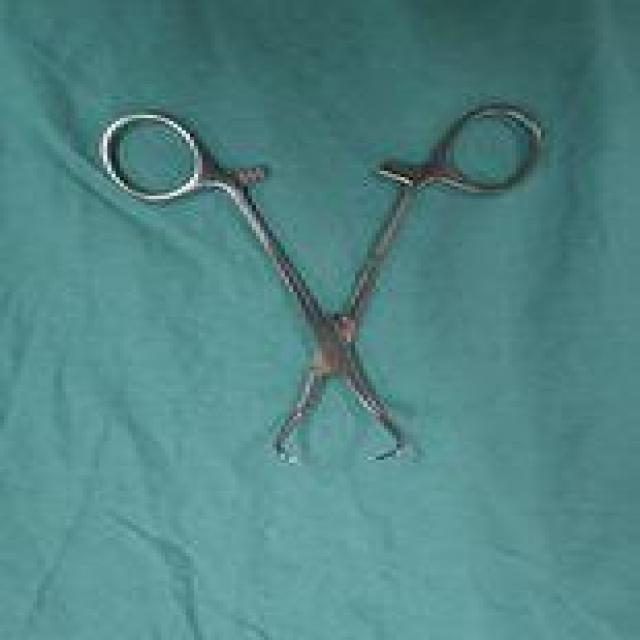Towel_clip: (95, 100, 549, 470)
